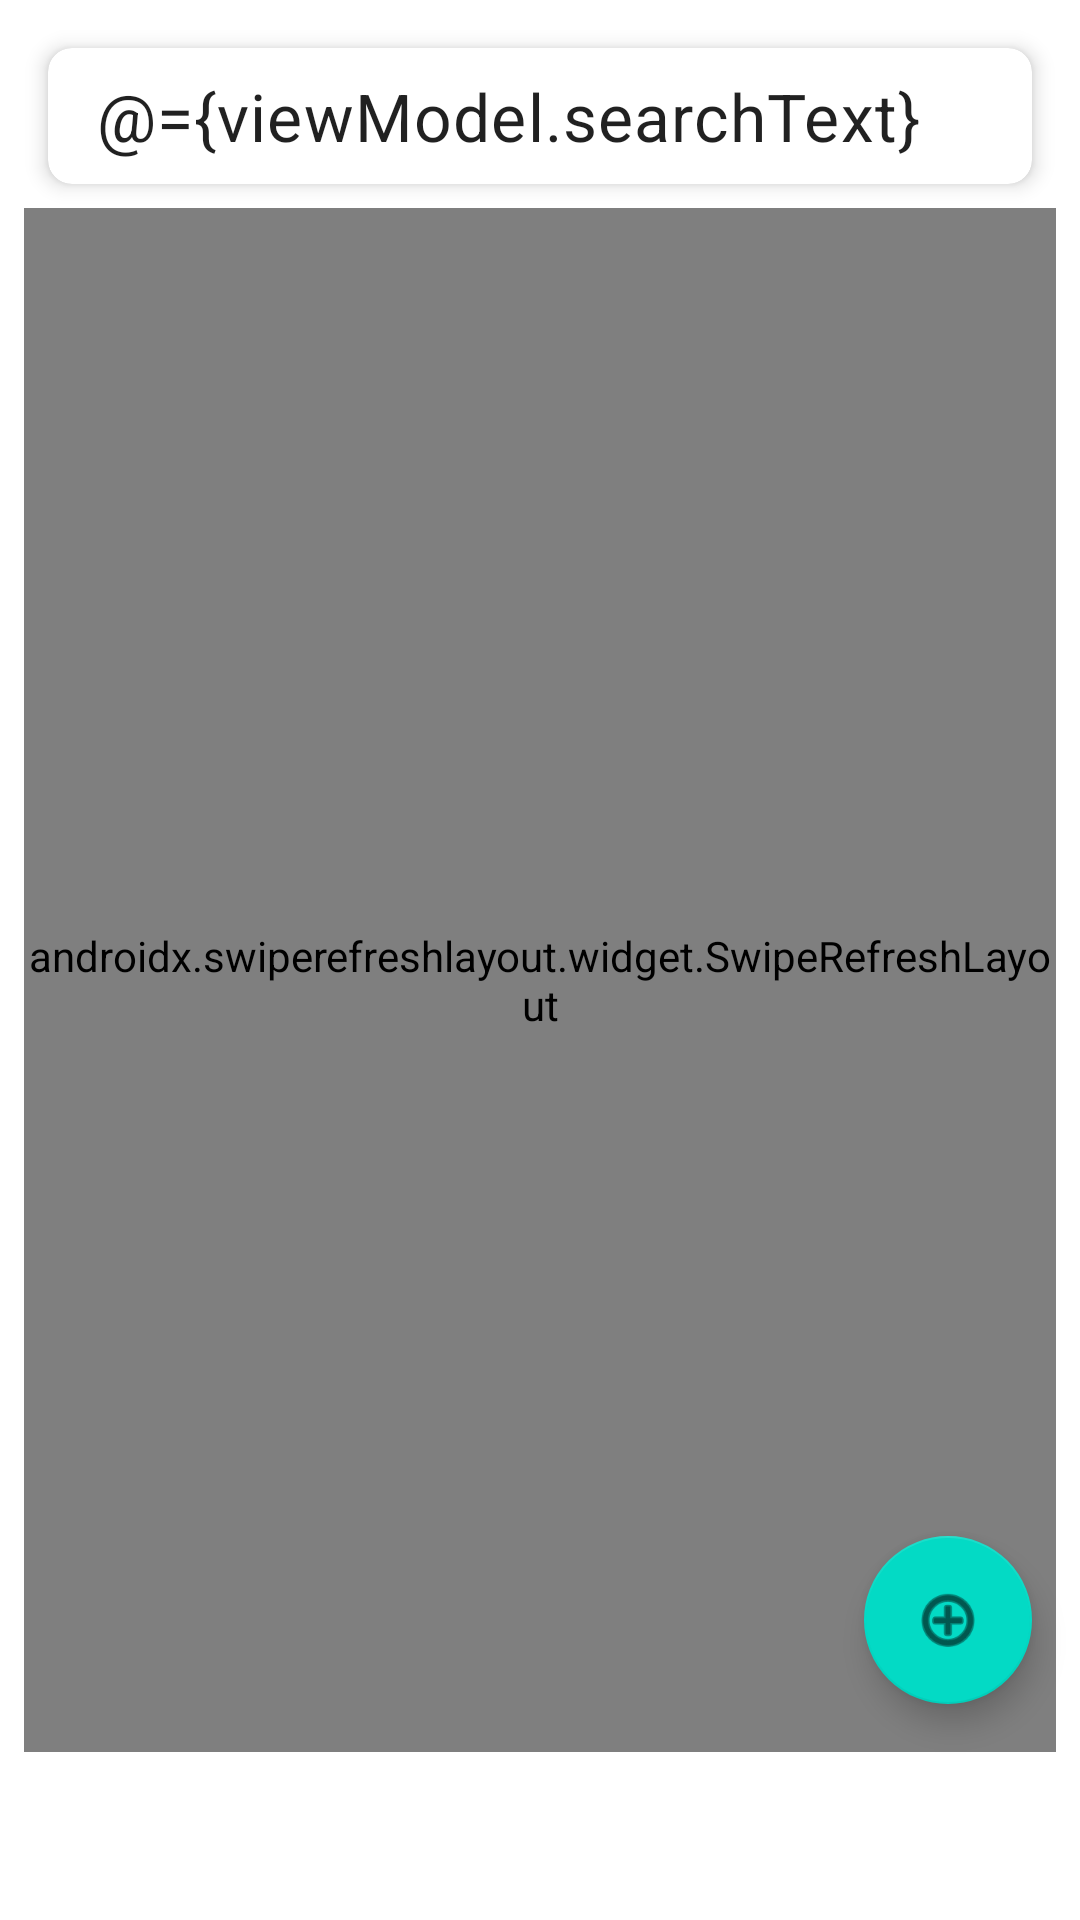

Named icons in this screenshot (1080w x 1920h) and their centers, point (x, y):
Add post: point (948, 1620)
